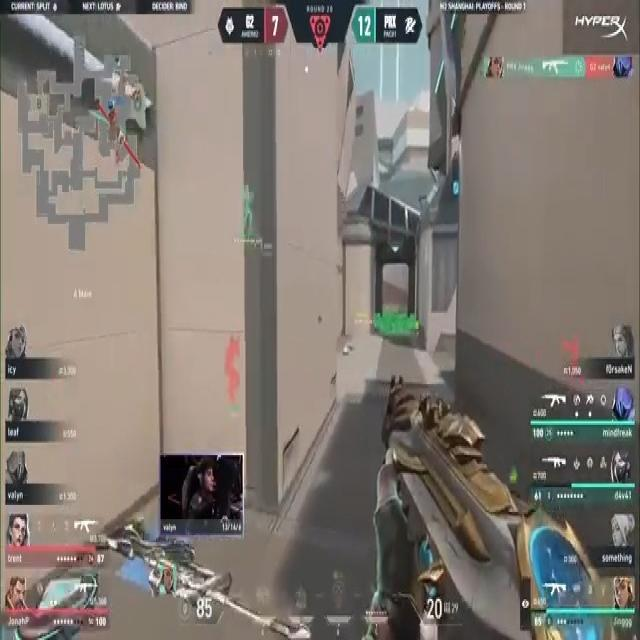ally behind wall: (237, 182, 256, 237)
enemy behind wall: (223, 332, 245, 400)
